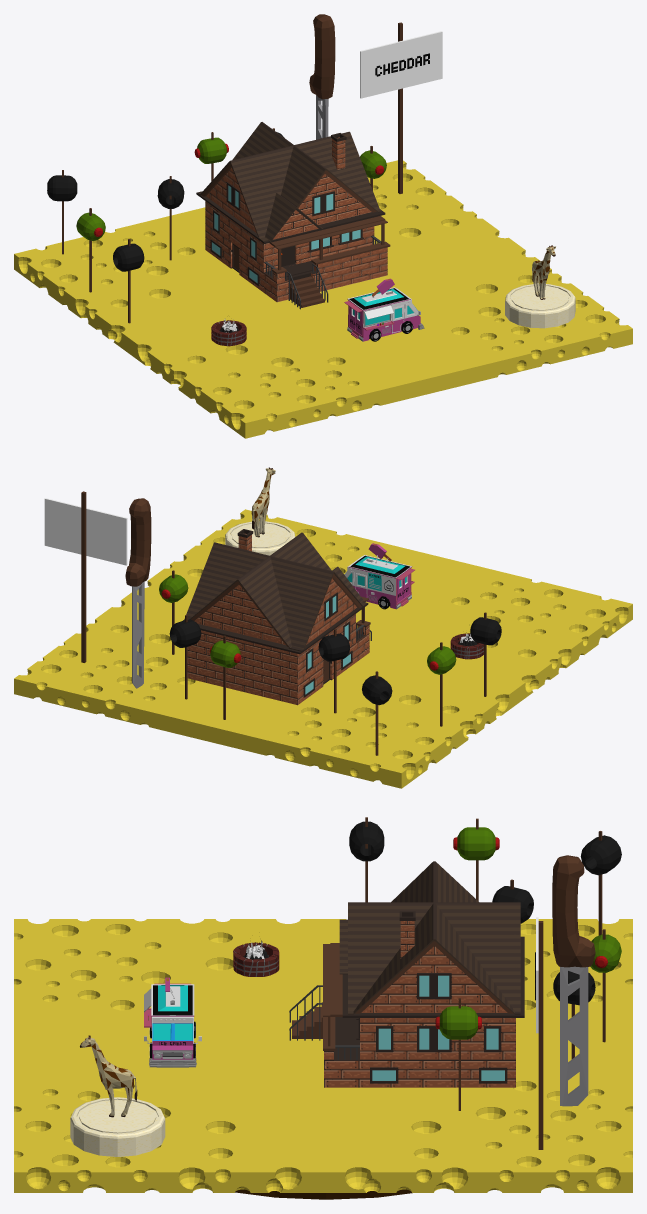
3 renders of one model, top to bottom at view 1: azimuth 30°, elevation 25°; view 2: azimuth 150°, elevation 25°; view 3: azimuth 270°, elevation 25°, orthographic. The views are drawn at different scales.
Visible parts, largest first — view 1: Cube.022, Cube.469, Cube.023, VEHICLES_ICE_CREAM_TRUCK, Cylinder.016, Cube.024, Sphere.017, Sphere.016, OBJRANDOM_CAMPFIRE, Sphere.020, Sphere.018, Sphere.022 (+2 smaller); view 2: Cube.022, Cube.469, Cube.023, Cube.024, VEHICLES_ICE_CREAM_TRUCK, Cylinder.016, Sphere.016, Sphere.017, Sphere.020, Sphere.021, Sphere.022, Sphere.018 (+3 smaller); view 3: Cube.022, Cube.469, Cube.024, Cylinder.016, VEHICLES_ICE_CREAM_TRUCK, Cube.023, Sphere.016, Sphere.019, OBJRANDOM_CAMPFIRE, ANIMAL_JIRAFA, Sphere.018, Sphere.017 (+4 smaller).
Part boxes in pixels (left/top/right/bottom): Cube.022: left=14, top=160, right=632, bottom=438; Cube.469: left=196, top=122, right=390, bottom=309; Cube.023: left=360, top=22, right=442, bottom=193; VEHICLES_ICE_CREAM_TRUCK: left=344, top=278, right=424, bottom=341; Cylinder.016: left=505, top=284, right=575, bottom=328; Cube.024: left=309, top=14, right=335, bottom=139; Sphere.017: left=113, top=239, right=144, bottom=323; Sphere.016: left=47, top=170, right=77, bottom=254; OBJRANDOM_CAMPFIRE: left=211, top=318, right=246, bottom=346; Sphere.020: left=157, top=176, right=184, bottom=260; Sphere.018: left=76, top=208, right=105, bottom=292; Sphere.022: left=194, top=132, right=228, bottom=181; Cube.022: left=14, top=509, right=632, bottom=788; Cube.469: left=183, top=529, right=371, bottom=705; Cube.023: left=44, top=491, right=127, bottom=662; Cube.024: left=125, top=498, right=151, bottom=688; VEHICLES_ICE_CREAM_TRUCK: left=344, top=543, right=414, bottom=609; Cylinder.016: left=225, top=521, right=295, bottom=555; Sphere.016: left=362, top=671, right=392, bottom=755; Sphere.017: left=470, top=612, right=501, bottom=696; Sphere.020: left=318, top=629, right=349, bottom=713; Sphere.021: left=169, top=615, right=201, bottom=699; Sphere.022: left=209, top=635, right=241, bottom=719; Sphere.018: left=427, top=642, right=456, bottom=726; Cube.022: left=14, top=919, right=632, bottom=1192; Cube.469: left=289, top=861, right=524, bottom=1087; Cube.024: left=552, top=855, right=595, bottom=1106; Cylinder.016: left=70, top=1097, right=165, bottom=1156; VEHICLES_ICE_CREAM_TRUCK: left=144, top=977, right=201, bottom=1067; Cube.023: left=535, top=917, right=543, bottom=1149; Sphere.016: left=580, top=831, right=621, bottom=935; Sphere.019: left=435, top=998, right=481, bottom=1110; OBJRANDOM_CAMPFIRE: left=233, top=940, right=279, bottom=976; ANIMAL_JIRAFA: left=80, top=1035, right=137, bottom=1117; Sphere.018: left=453, top=818, right=499, bottom=900; Sphere.017: left=349, top=817, right=384, bottom=902.
Size of the model in its own units: 3917 by 2073 by 4000.
Materials: 47 (4 with a texture image).
